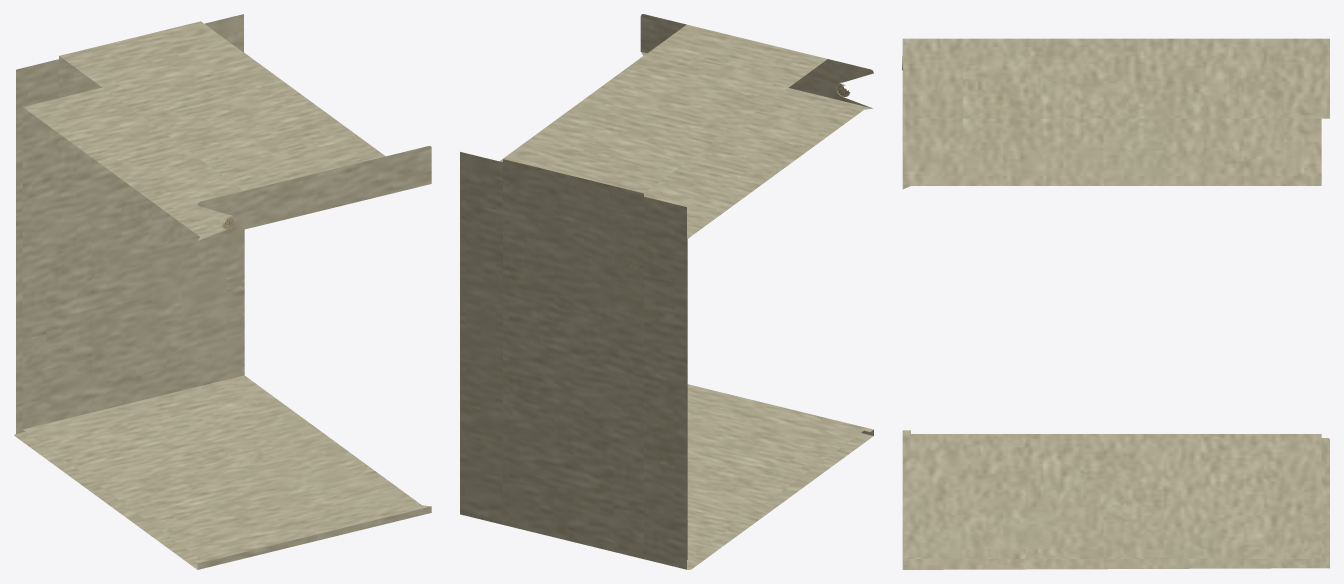
The picture shows the model from 3 angles, left to right: view 1: azimuth 30°, elevation 25°; view 2: azimuth 150°, elevation 25°; view 3: azimuth 270°, elevation 25°; orthographic projection. The views are drawn at different scales.
Bounding box in the file's own units: 0.4069 × 0.6104 × 0.5568.
